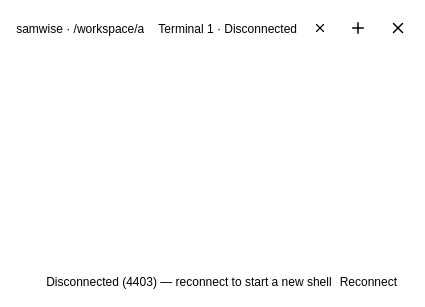
shows disconnected state on the tab and reconnects in place with a fresh shell
Check: the button "Terminal 1 · Disconnected" is shown, box [150, 16, 305, 42]
Check: the message "Disconnected (4403) — reconnect to start a new shell Reconnect" is shown, box [38, 265, 413, 299]
Step 1. Click the button "Reconnect" → (368, 282), box [332, 269, 405, 295]
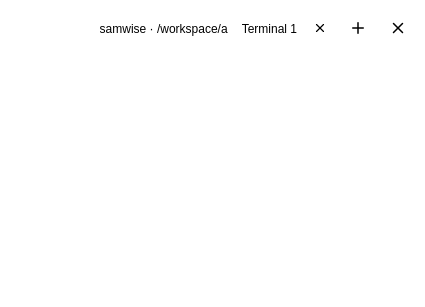
Check: the message "Disconnected (4403) — reconnect to start a new shell Reconnect" is gone
